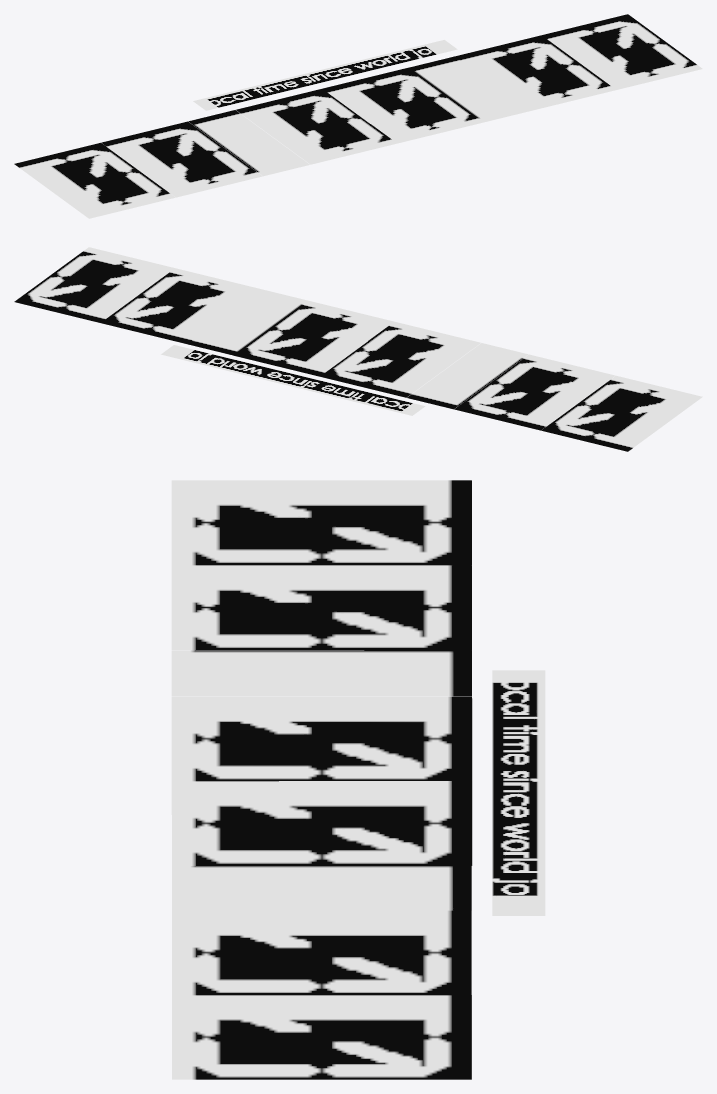
The model's file is Neitri's Clock V2 B.fbx.
3 renders of one model, top to bottom at view 1: azimuth 30°, elevation 25°; view 2: azimuth 150°, elevation 25°; view 3: azimuth 270°, elevation 25°, orthographic. The views are drawn at different scales.
Visible parts, largest first — view 1: clock; view 2: clock; view 3: clock.
Boxes of the visible parts, box(x1,y1,x2,y2) form: clock: box(14, 14, 702, 218); clock: box(14, 247, 702, 451); clock: box(171, 480, 545, 1079).
Size of the model in its own units: 5.45 by 0.0103 by 1.44.
1 material, 1 textured.
